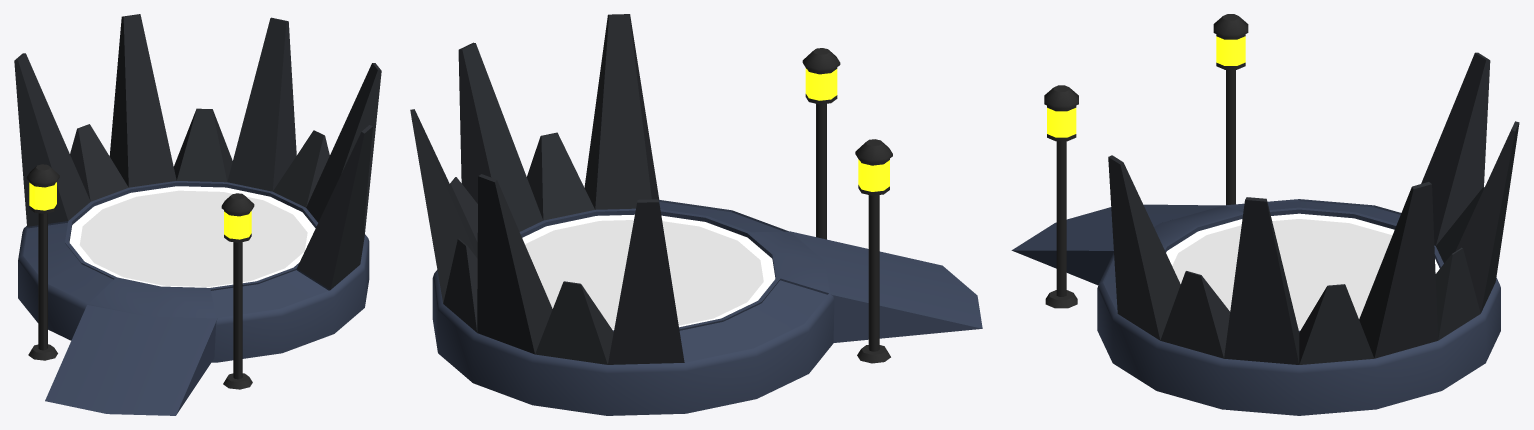
The model's file is Teleporter.fbx.
3 views of the same model, side by side, from view 1: azimuth 30°, elevation 25°; view 2: azimuth 150°, elevation 25°; view 3: azimuth 270°, elevation 25° (orthographic). The views are drawn at different scales.
Parts seen in each view (by area): view 1: BaseTP, StairsTP, StreetLampTP; view 2: BaseTP, StairsTP, StreetLampTP; view 3: BaseTP, StreetLampTP, StairsTP.
Part boxes in pixels (x1,y1,x2,y2): BaseTP: (14, 14, 381, 362); StairsTP: (45, 305, 217, 415); StreetLampTP: (26, 164, 254, 389); BaseTP: (410, 14, 834, 415); StairsTP: (790, 231, 982, 342); StreetLampTP: (802, 48, 892, 363); BaseTP: (1097, 52, 1519, 415); StreetLampTP: (1044, 14, 1248, 308); StairsTP: (1011, 204, 1223, 285).
Size of the model in its own units: 10.28 by 4.97 by 10.07.
